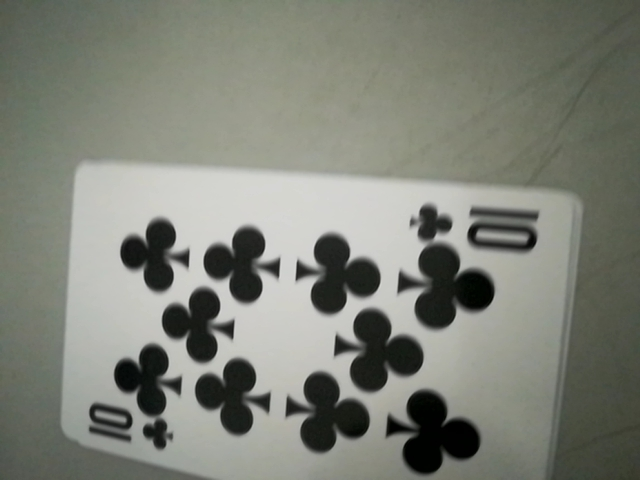mh 10: (411, 198, 550, 252), (82, 403, 177, 457)
